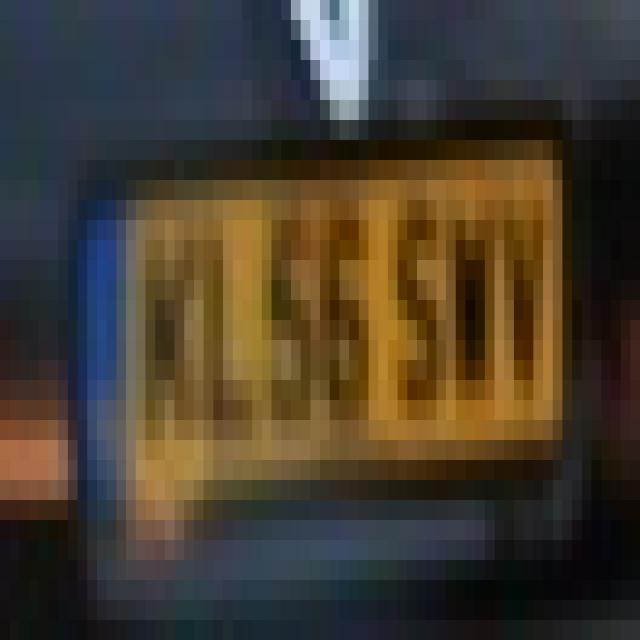licenseplate: (57, 96, 586, 554)
